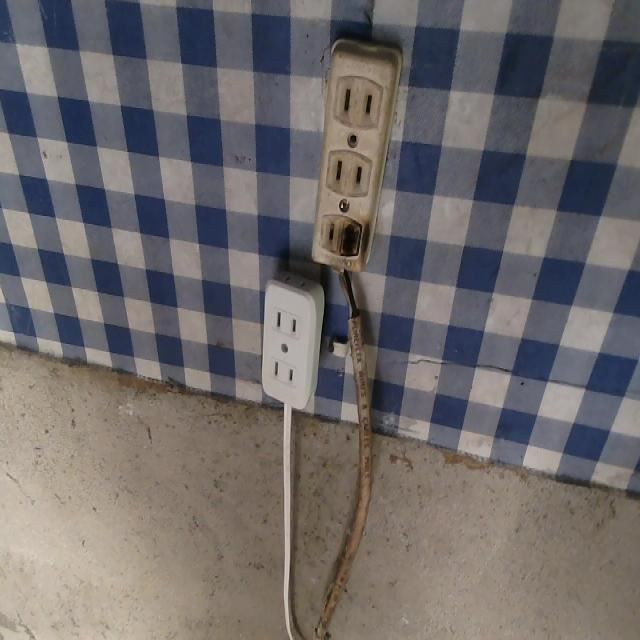-: (333, 209, 372, 264)
